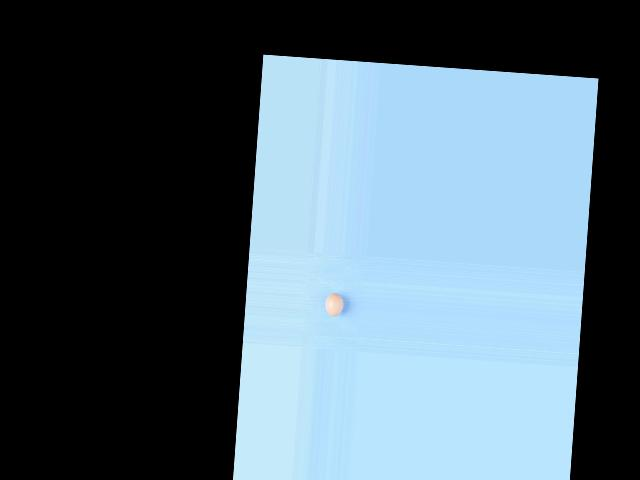egg: (324, 293, 345, 316)
